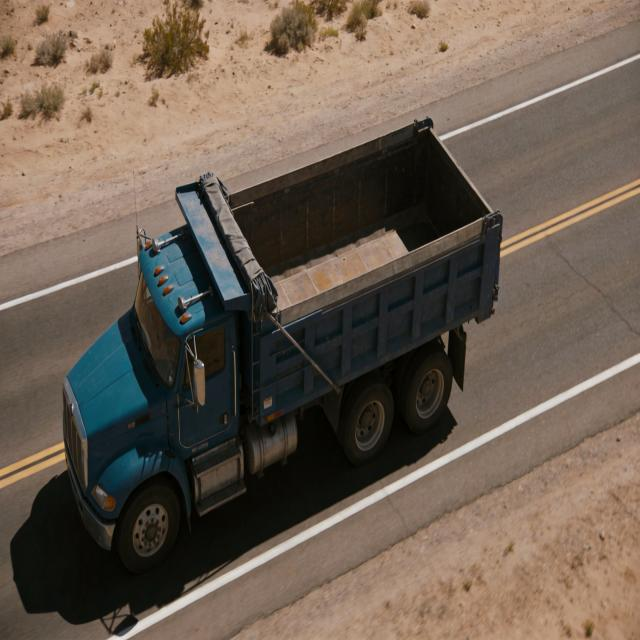Box: (186, 116, 512, 316)
Truck: (24, 106, 514, 558)
